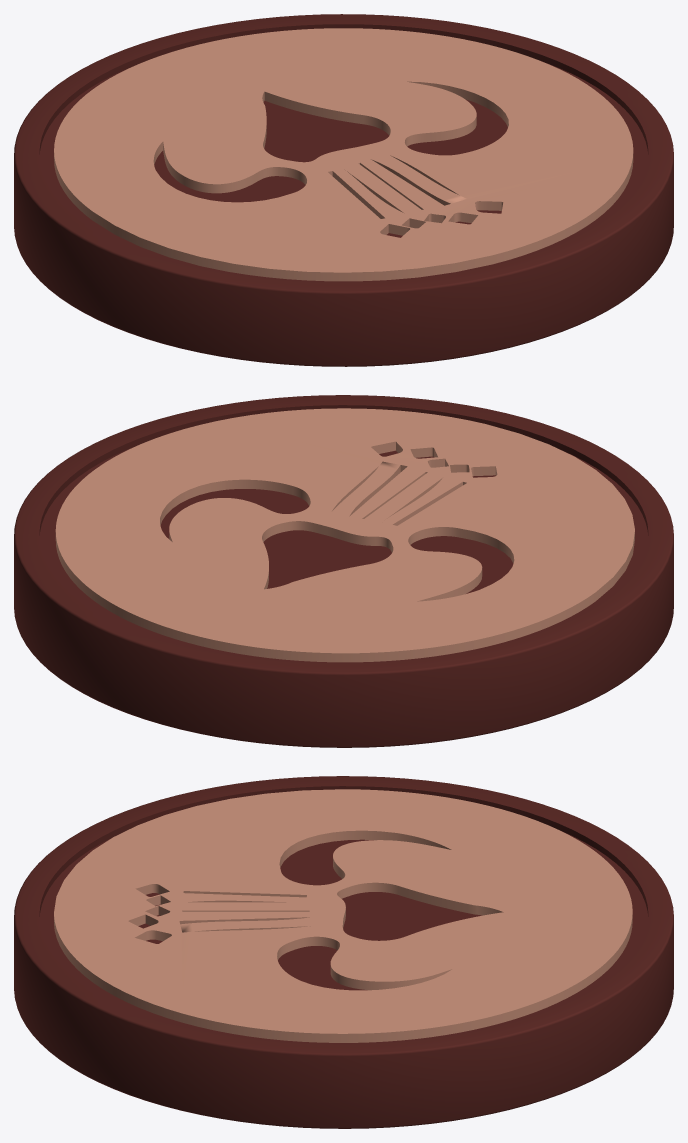
The model's file is Lily_R.fbx.
3 views of the same model, one above another, from view 1: azimuth 30°, elevation 25°; view 2: azimuth 150°, elevation 25°; view 3: azimuth 270°, elevation 25° (orthographic).
Parts seen in each view (by area): view 1: Tile07; view 2: Tile07; view 3: Tile07.
Boxes of the visible parts, x1,y1,x2,y2 form: Tile07: (14, 14, 673, 366); Tile07: (14, 395, 673, 747); Tile07: (14, 776, 673, 1128).
Bounding box in the file's own units: 13.25 × 1.74 × 13.25.
